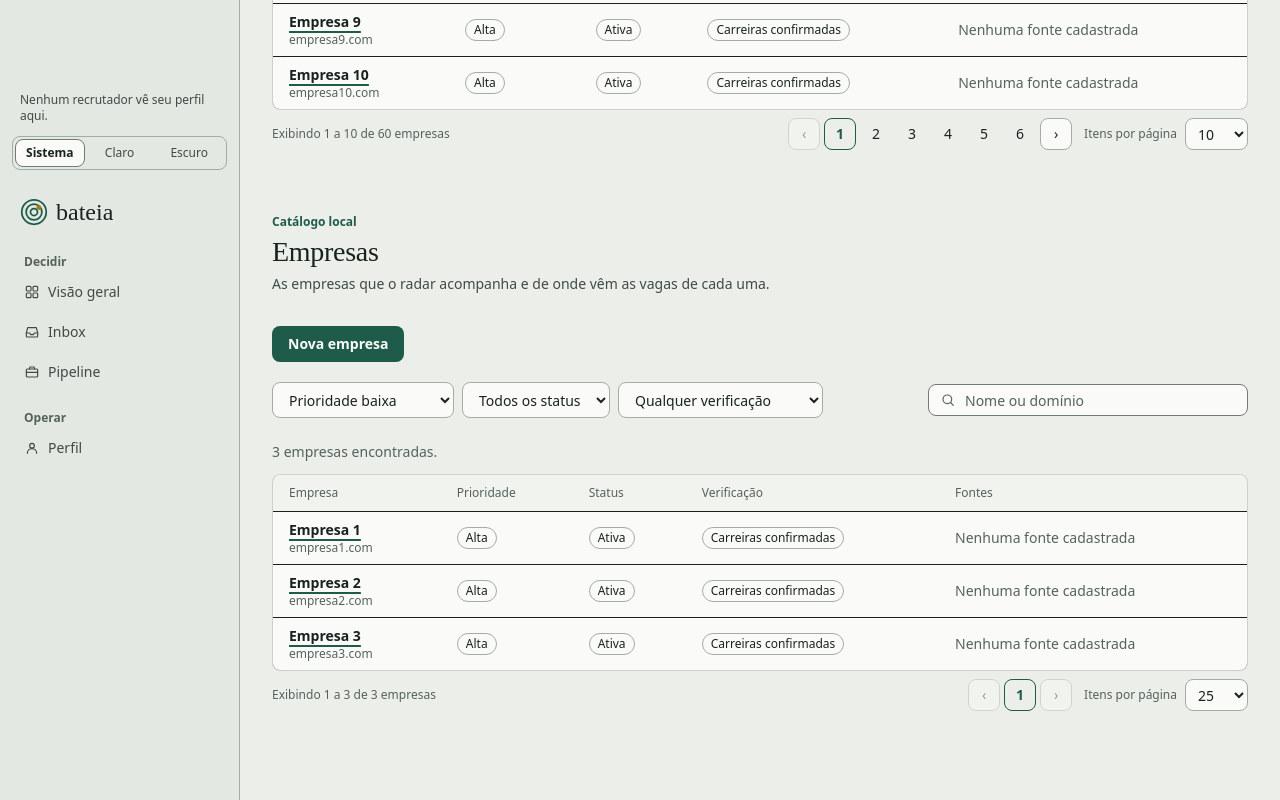
CompaniesPage › filtra somente os resultados exibidos na página e deixa esse escopo explícito
(page scrolled)
Select "Prioridade baixa" in the dropdown with id "company-priority": [363, 400] box x1=272 y1=382 x2=454 y2=418
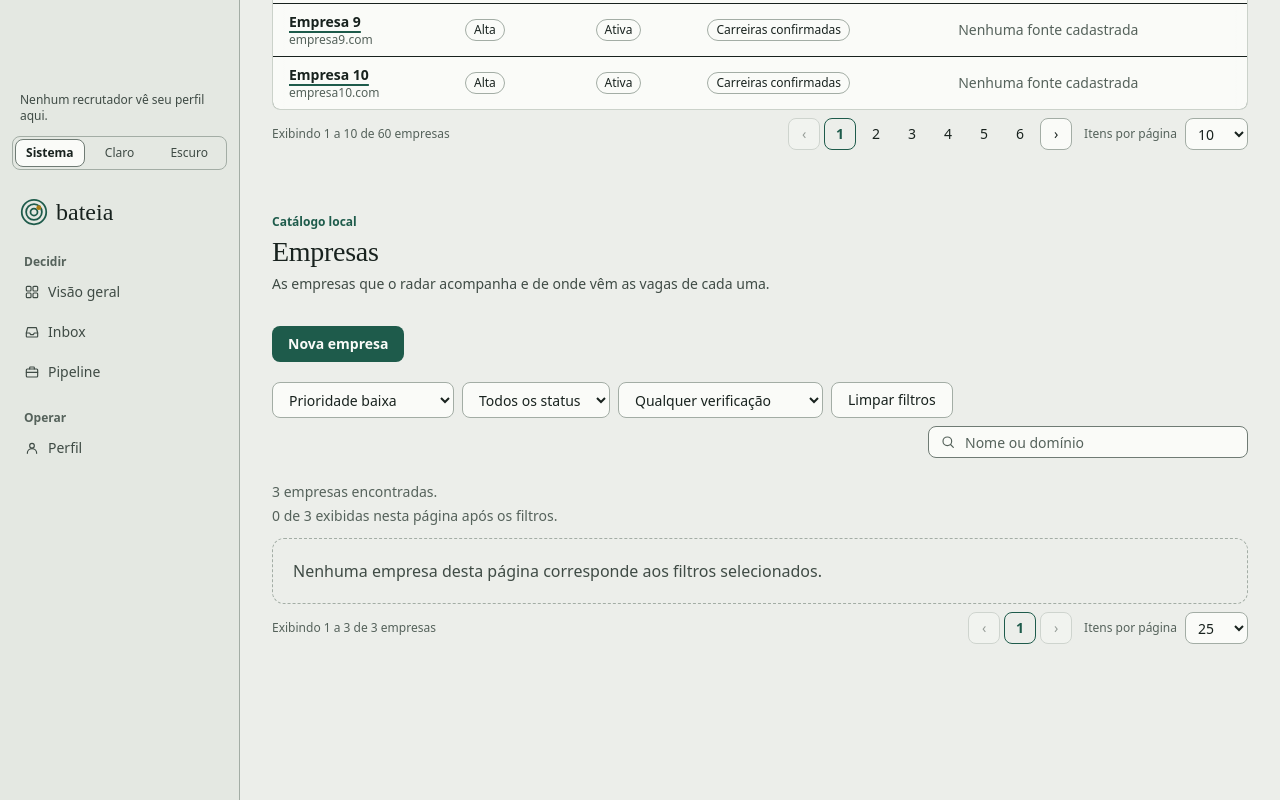
Check: the text "Nenhuma empresa desta página corresponde aos filtros selecionados." is shown, box x1=272 y1=538 x2=1248 y2=604
Check: the text "0 de 3 exibidas nesta página após os filtros." is shown, box x1=272 y1=506 x2=557 y2=525
